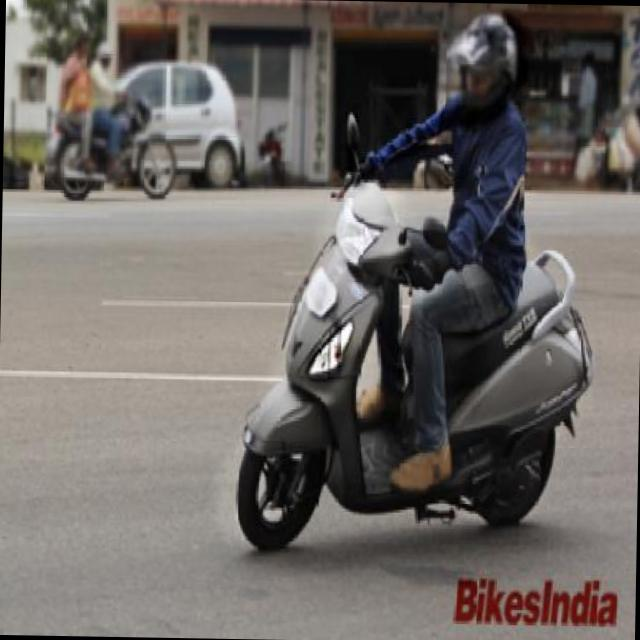With Helmet: (445, 9, 521, 130)
